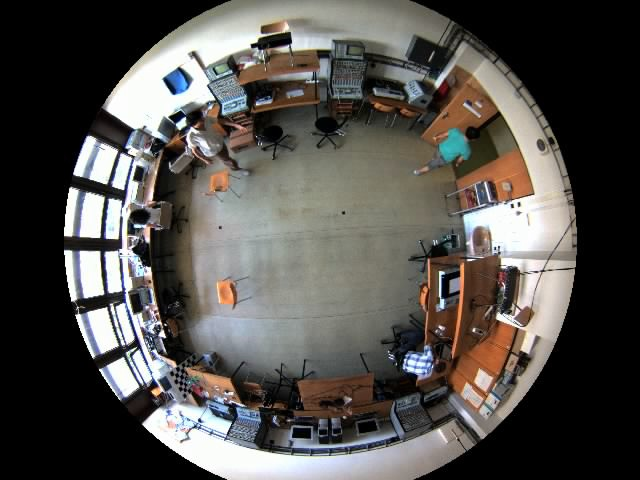person: (180, 110, 243, 173), (403, 124, 476, 177)
